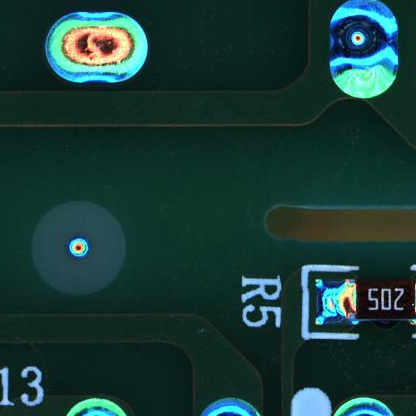spot: (46, 11, 150, 84), (331, 1, 398, 100)
